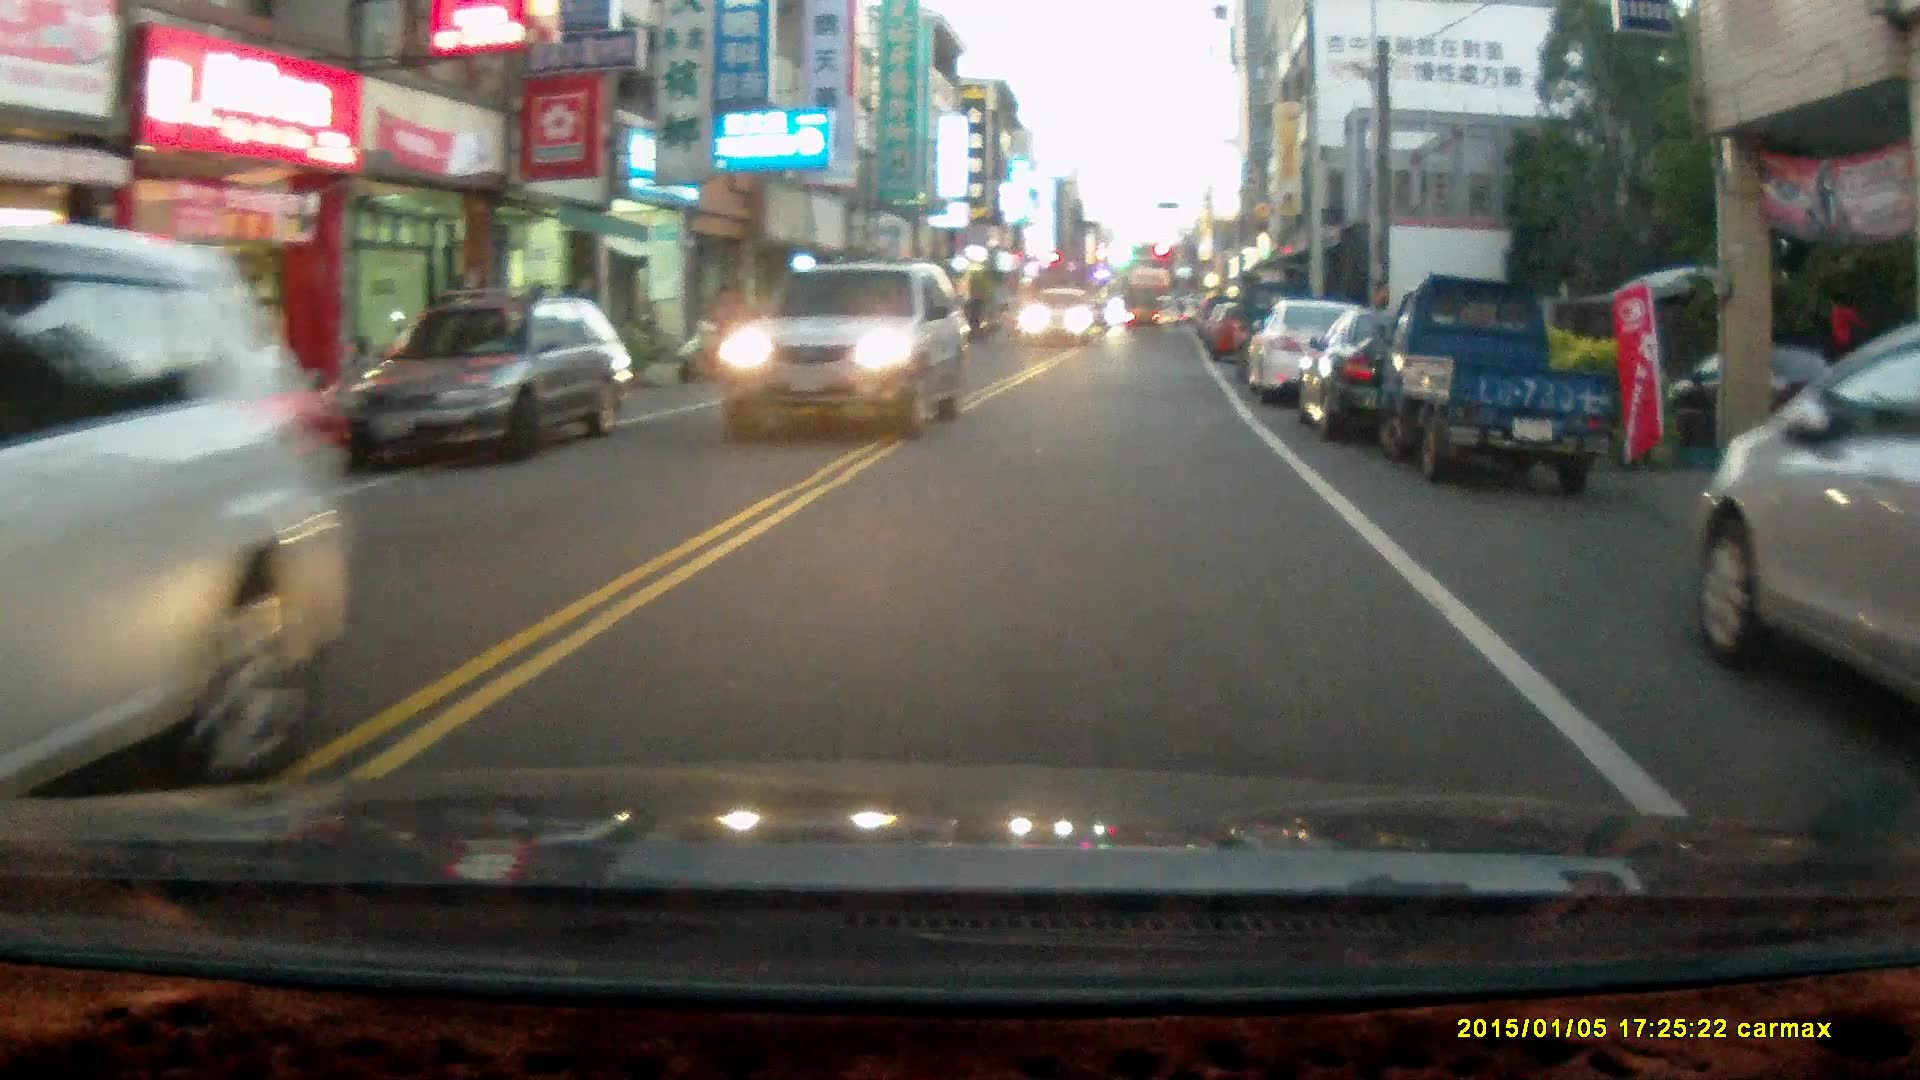pedestrian: (1818, 284, 1872, 459), (713, 280, 739, 372)
vehicle: (1, 229, 353, 794), (1696, 320, 1920, 714), (1372, 269, 1634, 496), (334, 292, 634, 469), (723, 259, 974, 438), (1304, 304, 1516, 440), (1245, 299, 1400, 407), (1018, 288, 1102, 347)
